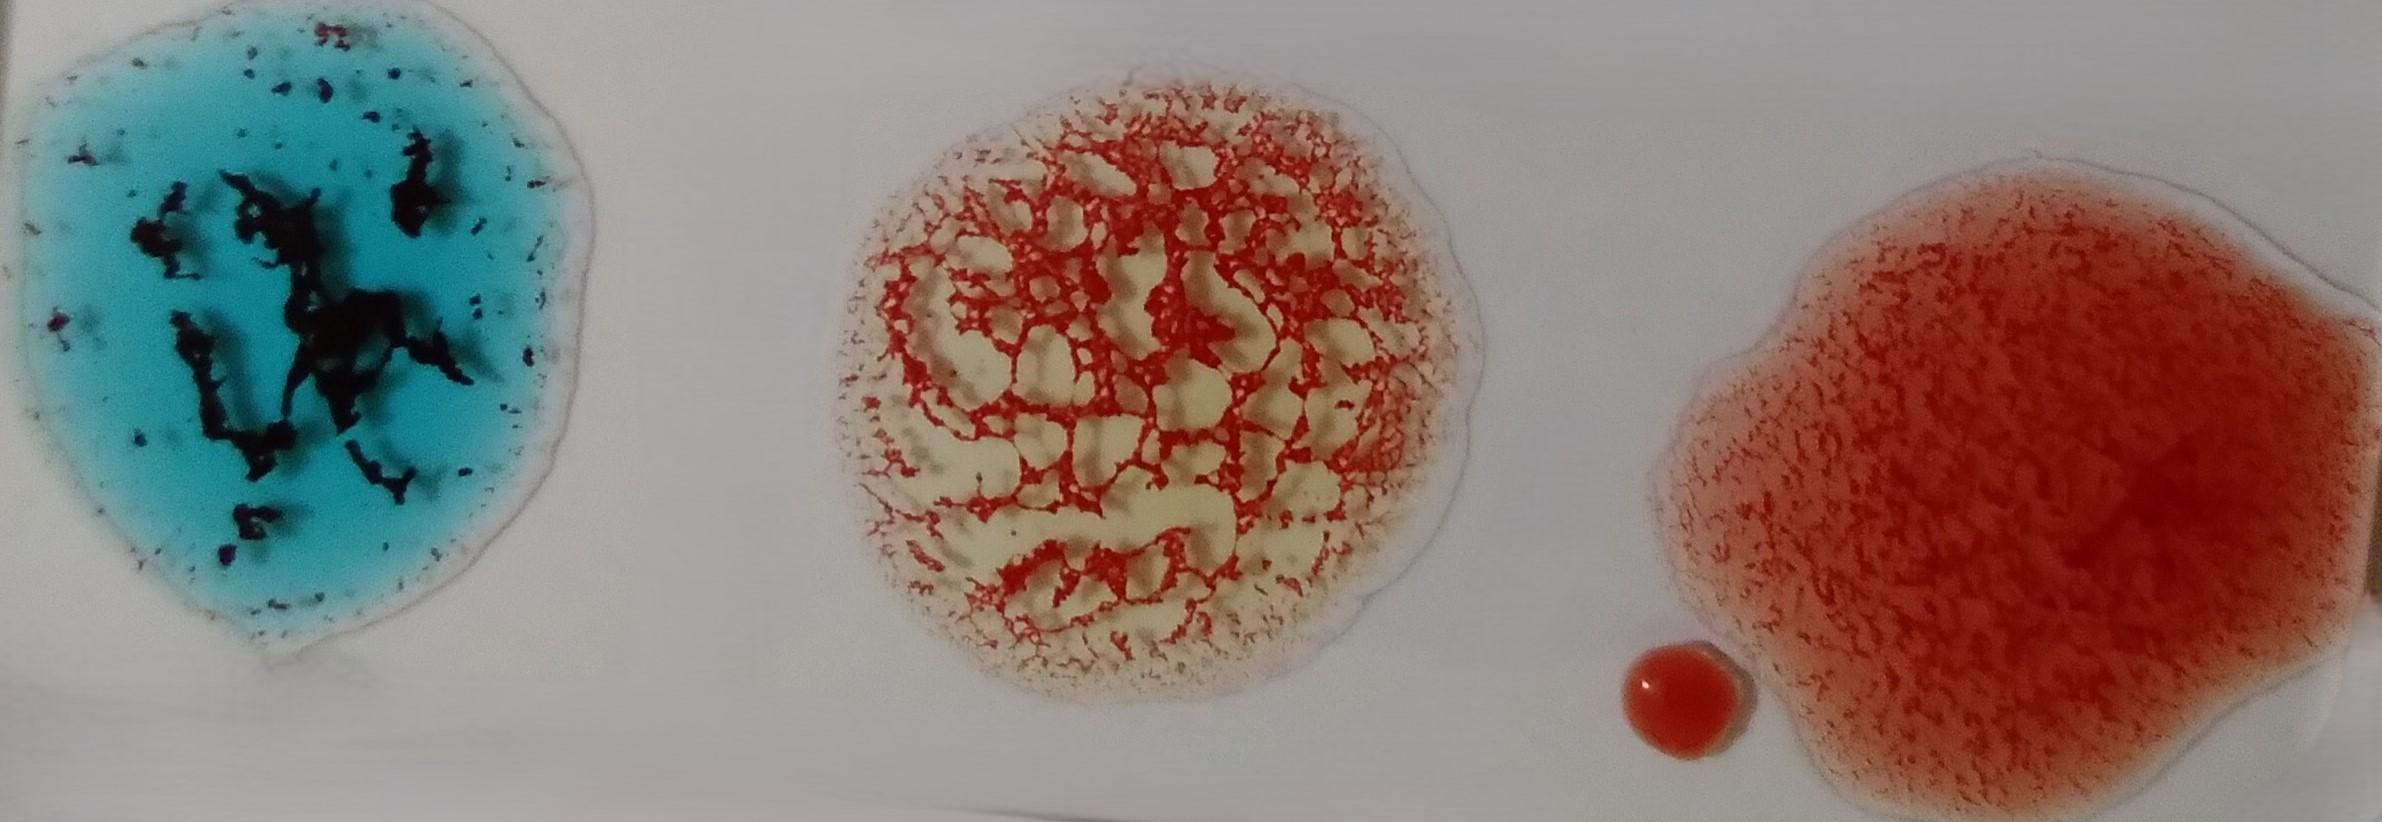A: (27, 0, 577, 643)
B: (858, 77, 1446, 679)
D: (1730, 150, 2329, 822)
